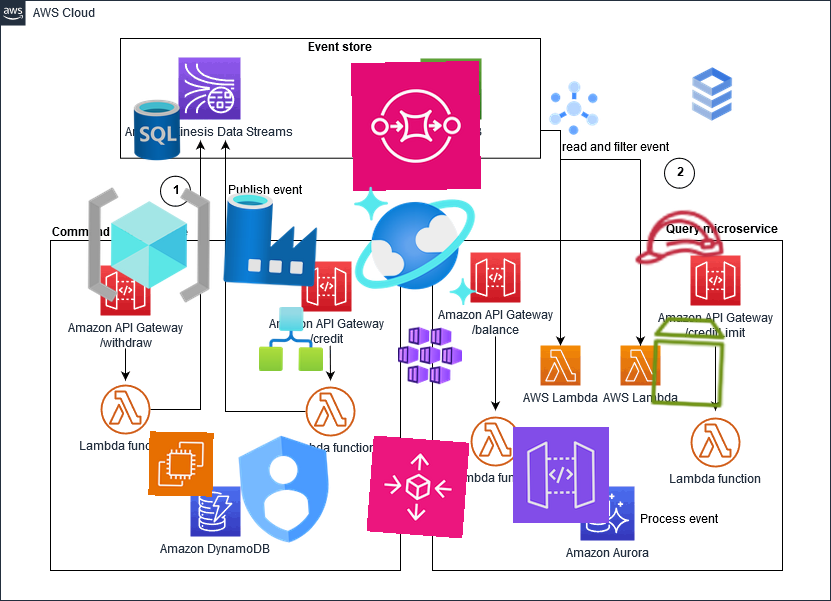aws_amazon_api_gateway: (512, 426, 610, 524)
aws_amazon_ec2: (148, 431, 214, 497)
aws_amazon_simple_queue_service: (350, 60, 482, 192)
aws_auto_scaling: (366, 435, 470, 539)
aws_elastic_block_store_volume: (638, 311, 740, 413)
aws_identity_access_management_role: (626, 185, 730, 289)
azure_cosmos_db: (349, 180, 481, 312)
azure_data_factories: (220, 188, 322, 290)
azure_kubernetes_services: (397, 322, 463, 388)
azure_logic_apps: (258, 306, 324, 372)
azure_resource_groups: (84, 180, 214, 310)
azure_sql_database: (124, 97, 190, 163)
gcp_cloud_sql: (679, 61, 745, 127)
gcp_identity_and_access_management: (216, 420, 354, 558)
gcp_pubsub: (541, 75, 607, 141)
